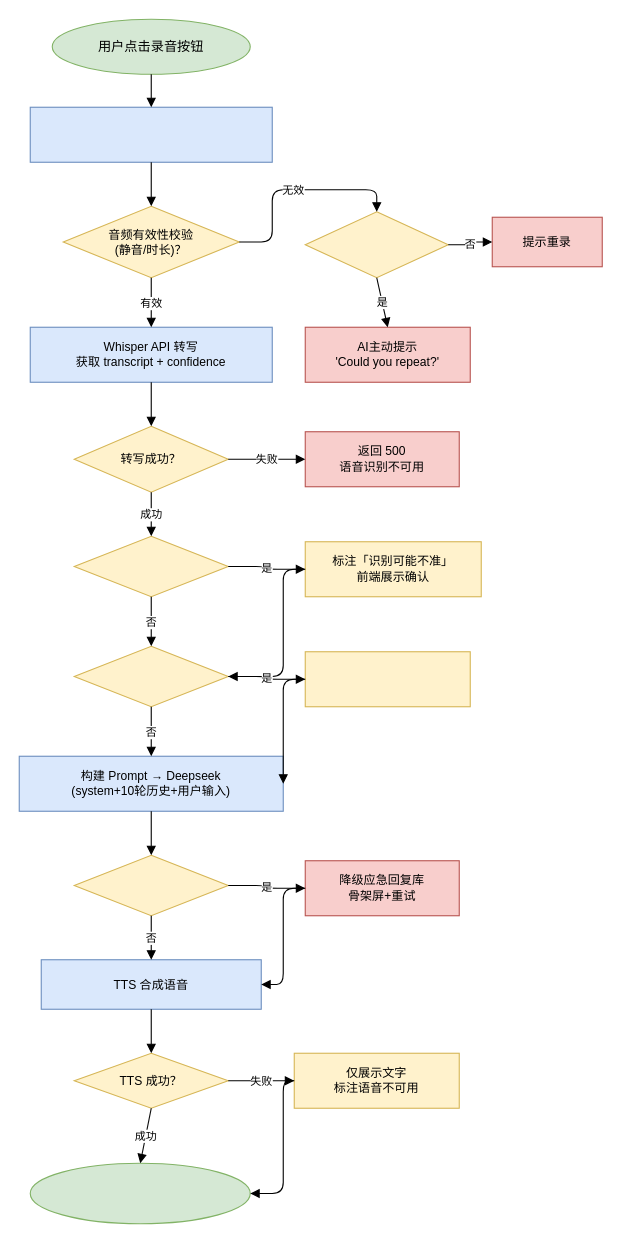
The diagram is 622 pixels wide and 1243 high, and some of its shapes have lost their labels. The shapes that lost their labels are listed below. From the top down, each one's centre as x and y in pixels, then its label:
the point at 150,134: 前端采集音频 → 上传 (multipart/form-data, ≤3MB)
the point at 376,244: 静音且超5s？
the point at 150,566: 置信度低？
the point at 150,676: 检测到中文？
the point at 387,679: AI回复英文引导 'Say it in English'
the point at 150,885: Deepseek 超时？
the point at 139,1193: 文字气泡 + 语音播放 双模态展示
